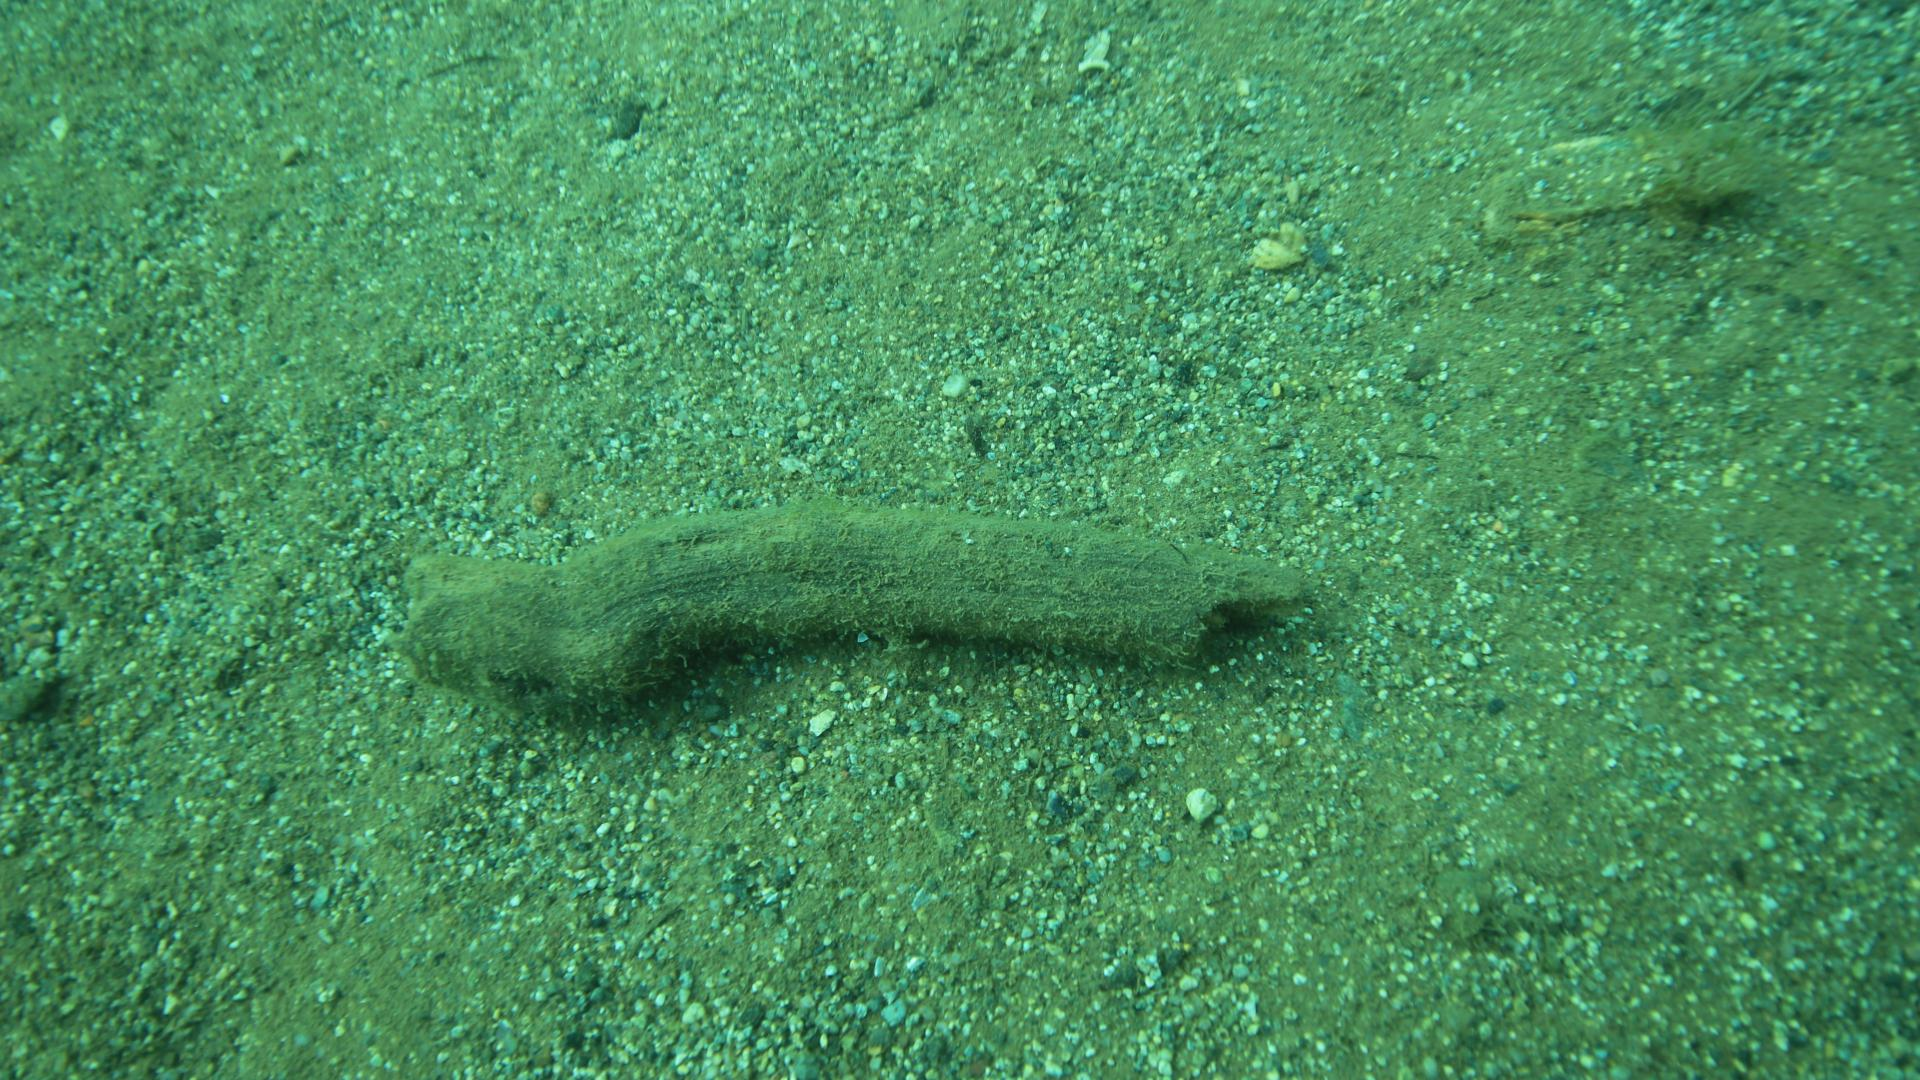wood: (401, 496, 1316, 703)
